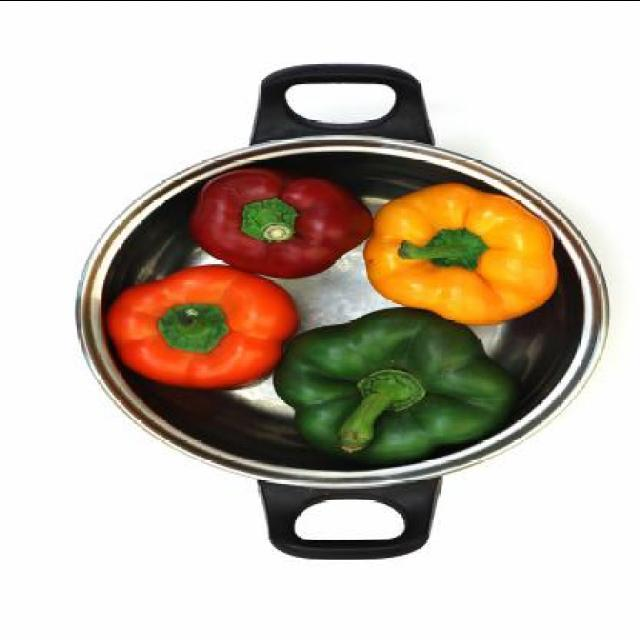Bell pepper: (274, 302, 520, 460), (360, 181, 558, 325), (108, 262, 300, 390), (188, 164, 372, 280)
